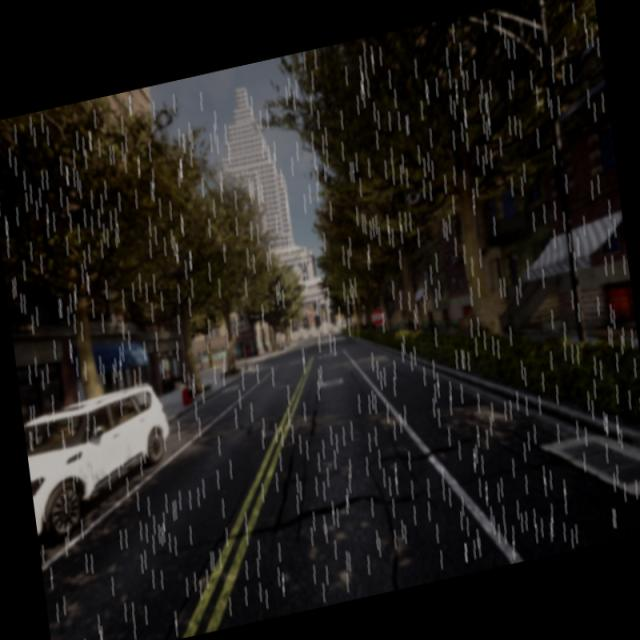stop sign: (369, 304, 386, 330)
